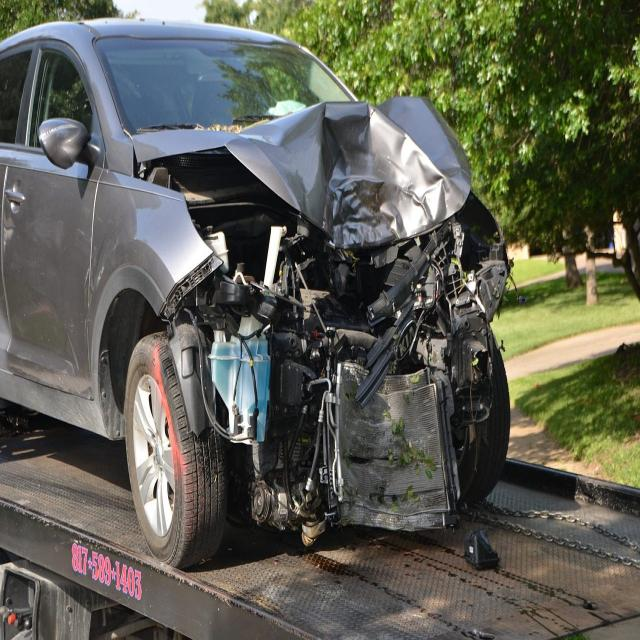Accident: (1, 13, 510, 572)
